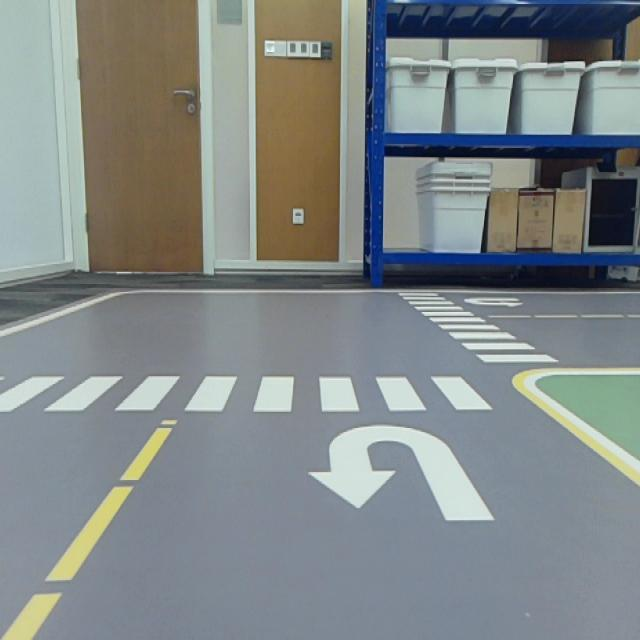left_lane: (1, 417, 177, 639)
right_lane: (511, 384, 640, 488), (1, 289, 117, 336)
